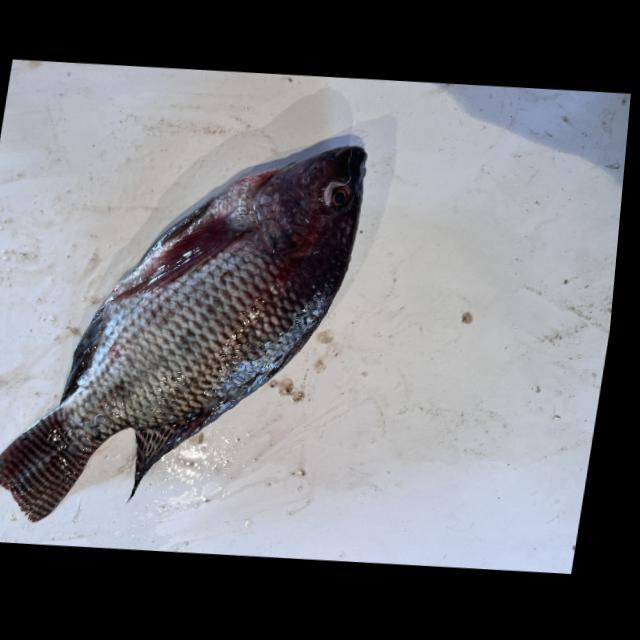Tilapia: (0, 120, 373, 542)
